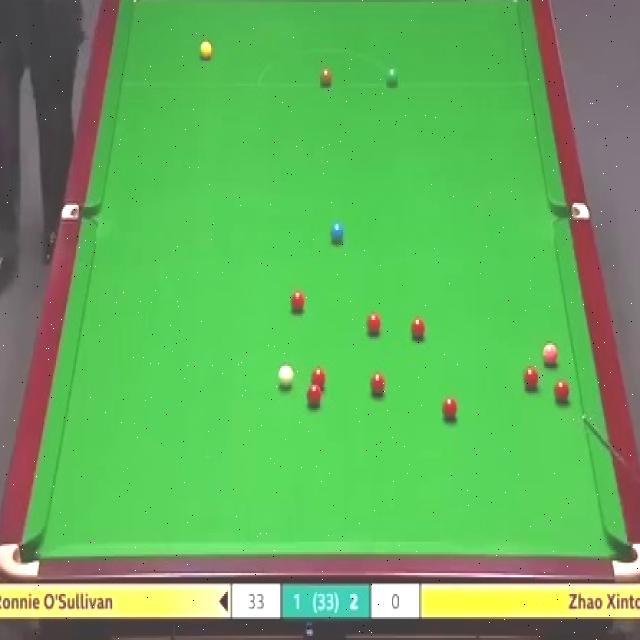blue-ball: (331, 220, 344, 244)
brown-ball: (319, 68, 334, 86)
green-ball: (385, 66, 400, 88)
pink-ball: (542, 342, 558, 365)
red-ball: (368, 370, 386, 400), (365, 312, 383, 339), (553, 379, 572, 404), (409, 315, 426, 340), (289, 286, 304, 313), (523, 365, 538, 391), (440, 398, 457, 420), (306, 386, 322, 408), (310, 368, 326, 388)
white-ball: (279, 366, 293, 391)
yellow-ball: (199, 39, 213, 62)
